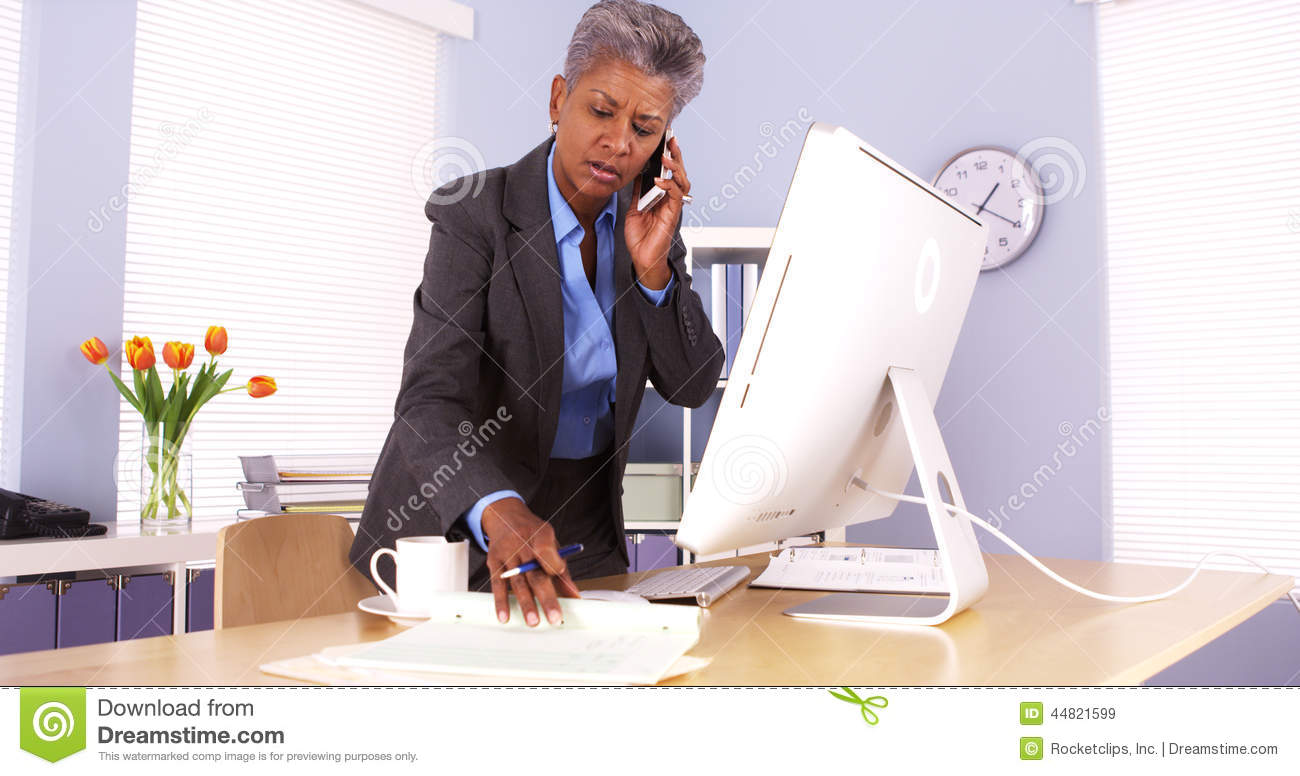phone: (637, 132, 668, 225)
talk: (569, 78, 693, 275)
